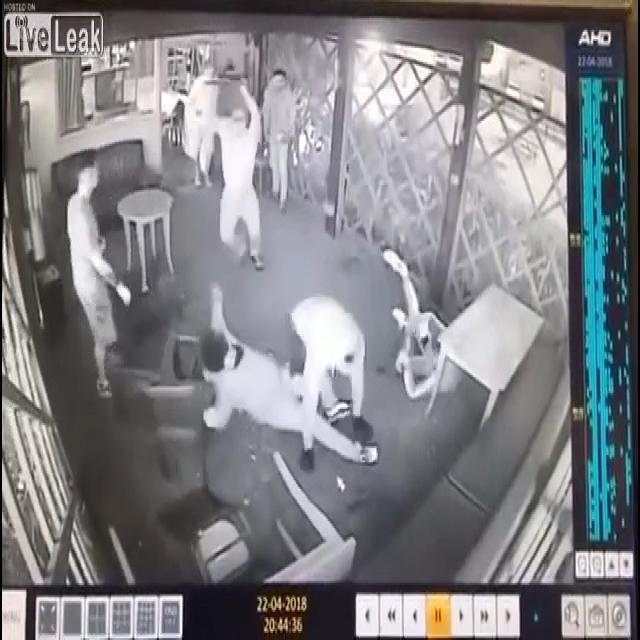fight: (204, 282, 387, 471)
